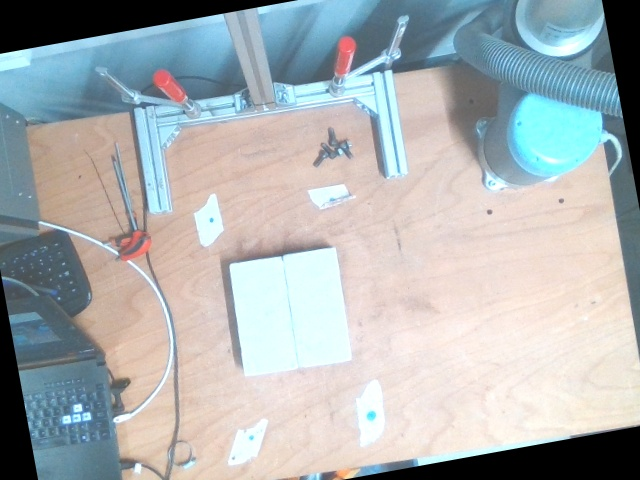brick: (282, 249, 350, 366), (229, 257, 296, 375)
